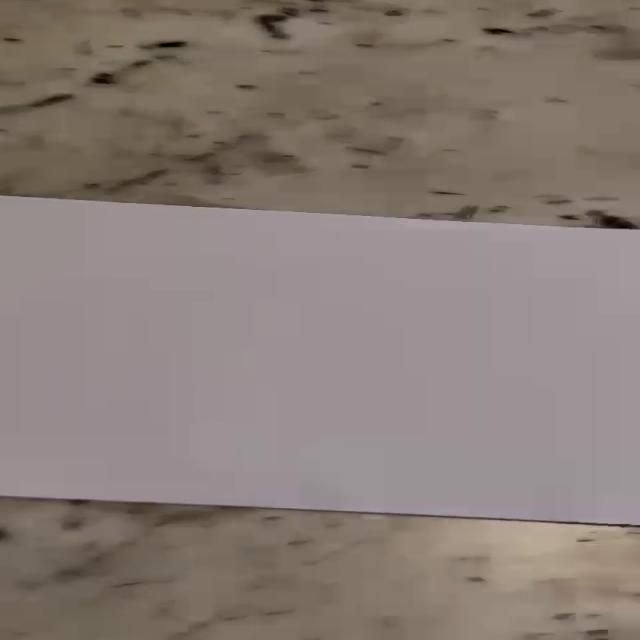road: (1, 197, 640, 525)
